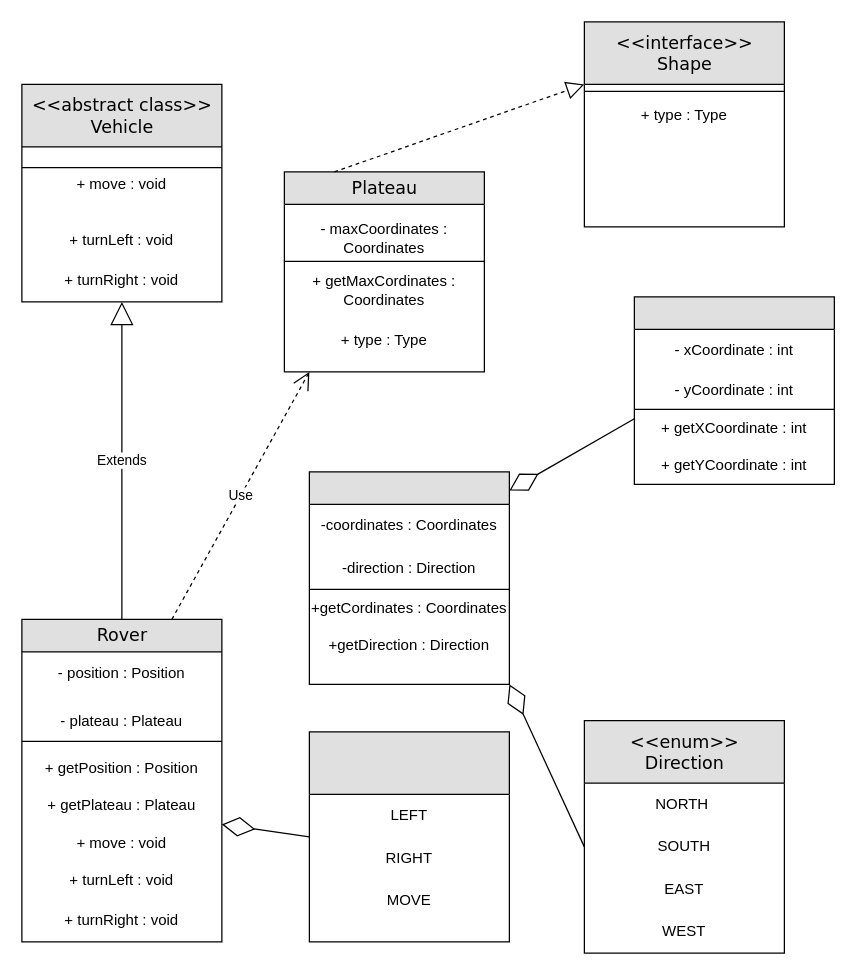
This 858x975 diagram has some shape labels left out. The shapes that lost their labels are listed below. From the top down, each one's box as (x1, y1, x2, y2) in pixels, then its label:
(633, 296, 834, 484): Coordinates
(308, 471, 509, 684): Position
(308, 731, 509, 942): <<enum>> RoverMovement
